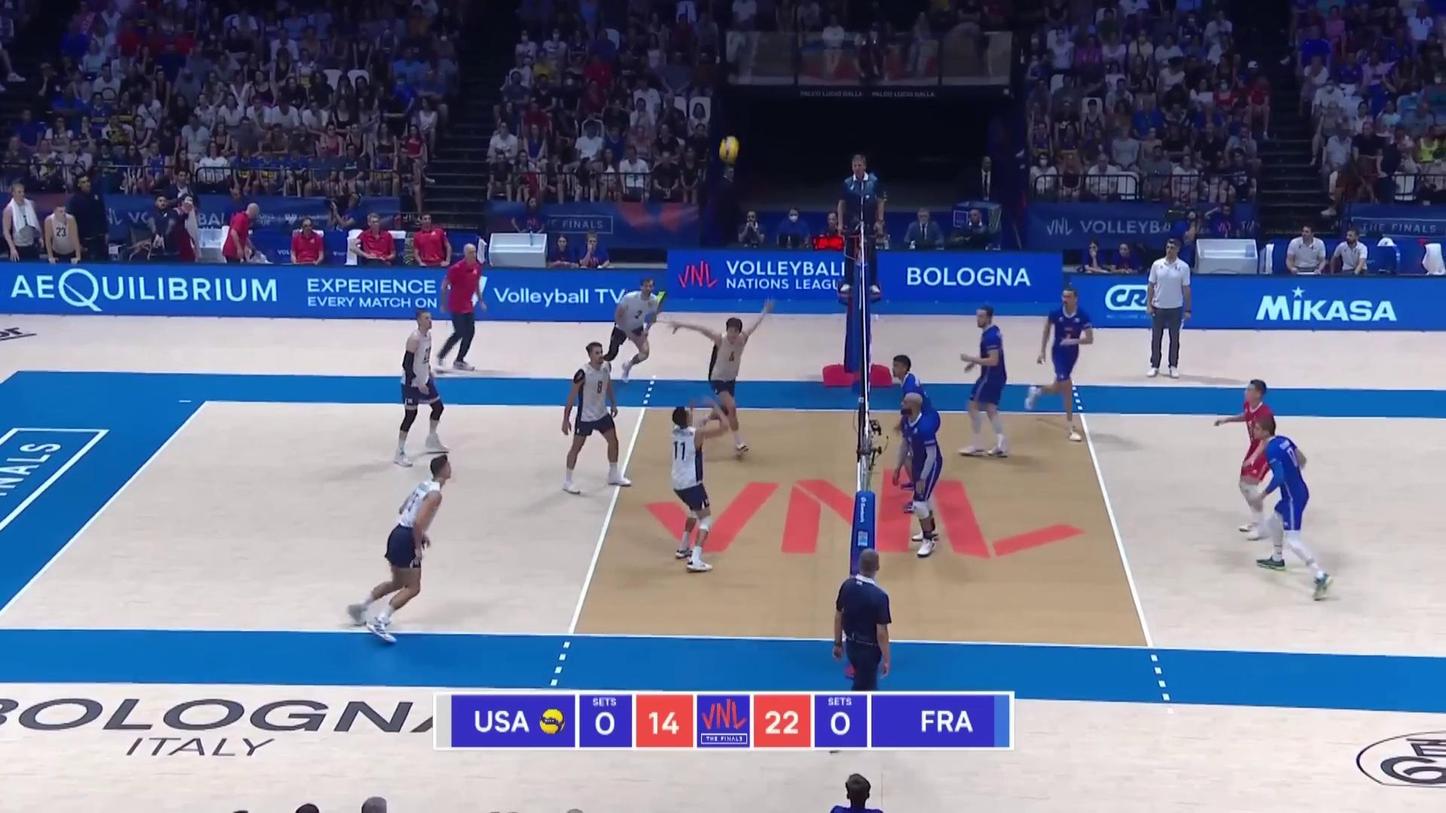player: (356, 456, 452, 642), (1248, 414, 1327, 596), (689, 307, 774, 456), (1024, 287, 1095, 443), (1218, 377, 1285, 541), (559, 342, 630, 492), (661, 408, 722, 572), (890, 392, 948, 559), (391, 311, 452, 463), (883, 351, 941, 508), (957, 305, 1014, 464), (586, 277, 660, 390)
refree: (825, 554, 890, 752), (834, 155, 883, 298)
